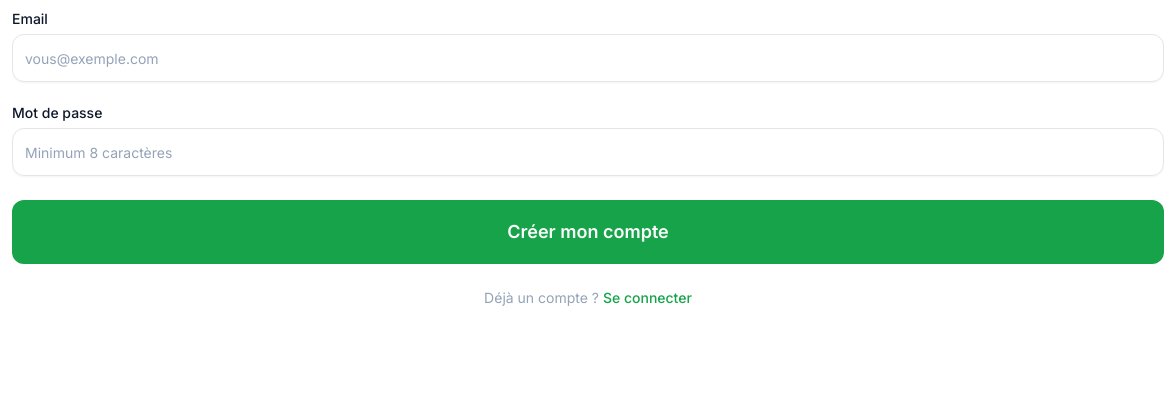
Test case: RegisterForm › should have accessible error banner with aria-live attribute
This screenshot has width=1176, height=401.
In the field labelled "Email": (588, 58) [12,34,1164,82], type "test@example.com"
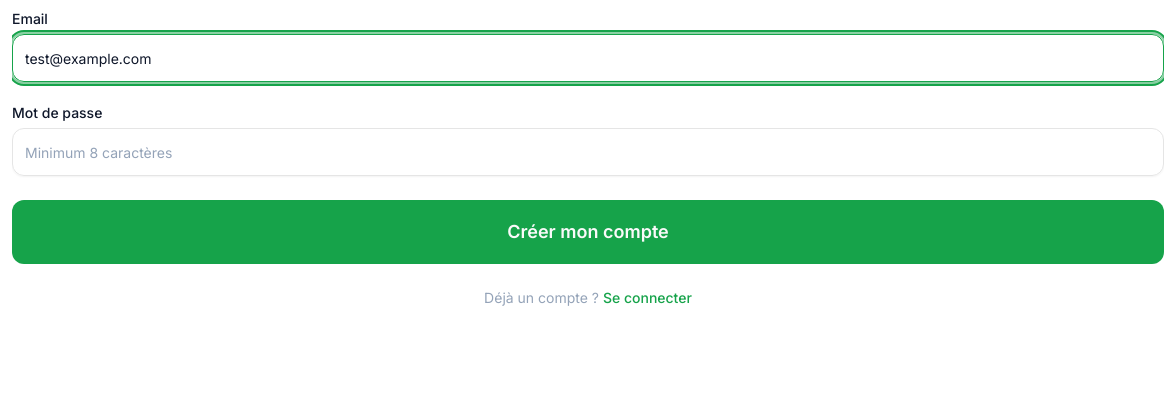
In the password field labelled "Mot de passe": (588, 152) [12,128,1164,176], type "password123"
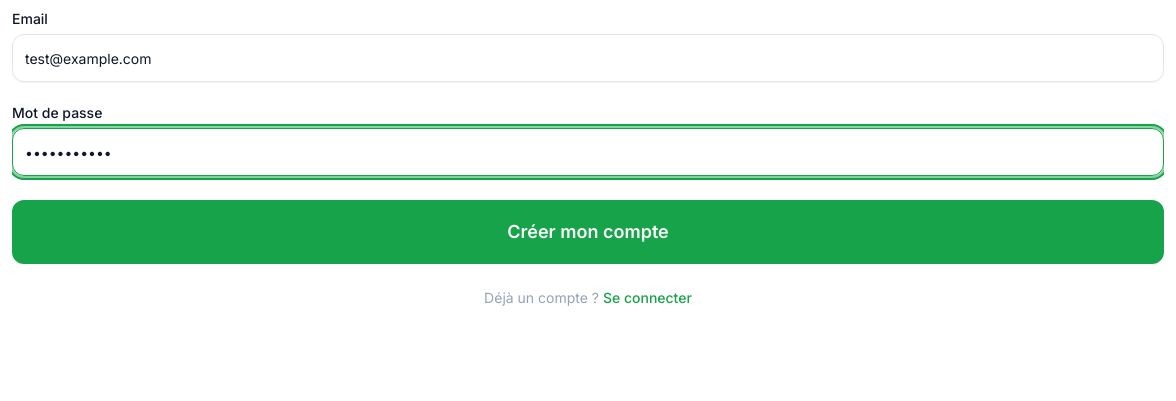
Click the button "Créer mon compte": (588, 232) [12,200,1164,264]
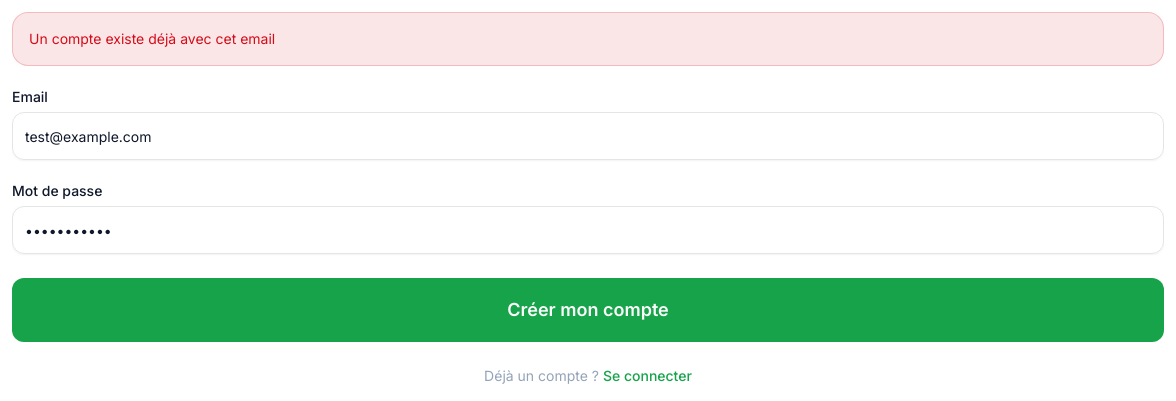
Expected: the message "Un compte existe déjà avec cet email" is shown, [12,12,1164,66]
